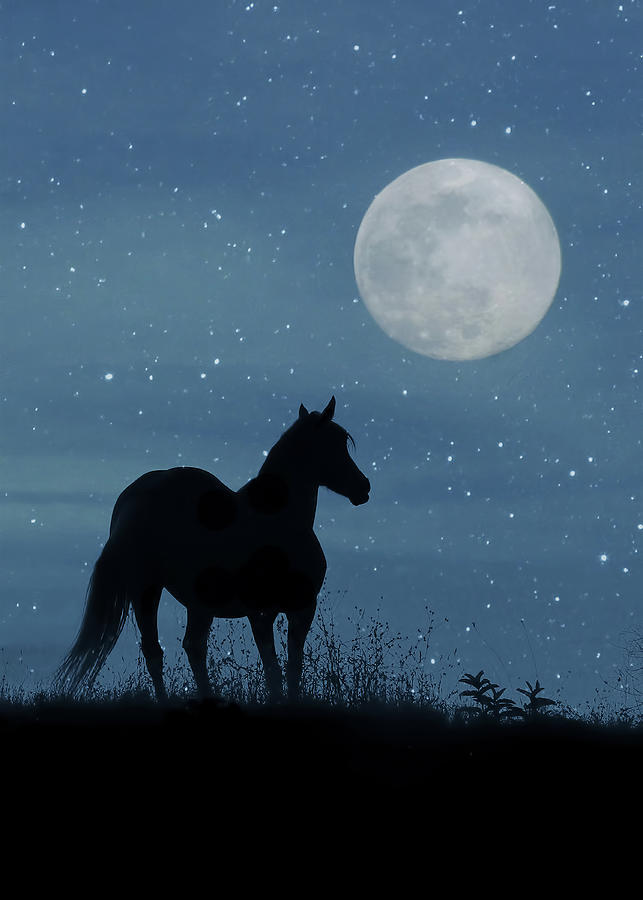Horse: (57, 392, 385, 740)
